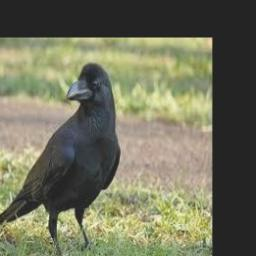Crow: (0, 62, 120, 256)
